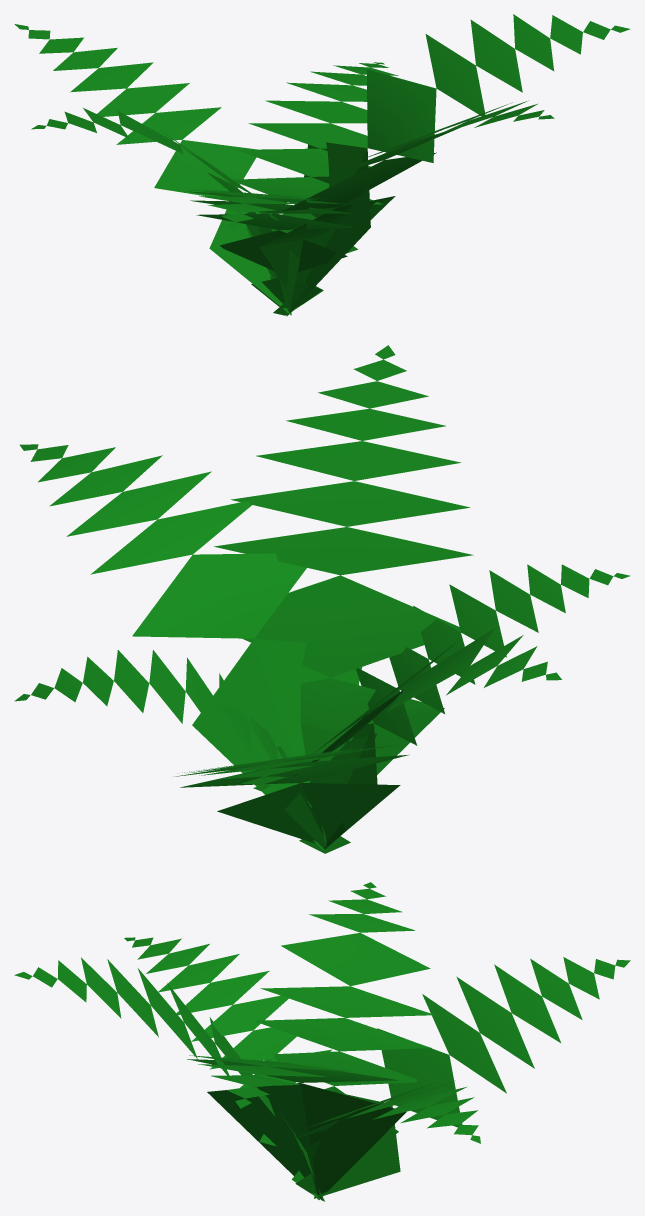
File: plant1.fbx
3 renders of one model, top to bottom at view 1: azimuth 30°, elevation 25°; view 2: azimuth 150°, elevation 25°; view 3: azimuth 270°, elevation 25°, orthographic. The views are drawn at different scales.
Visible parts, largest first — view 1: Fern; view 2: Fern; view 3: Fern.
Part boxes in pixels (bbox=[...]): Fern: bbox=[14, 14, 630, 316]; Fern: bbox=[14, 345, 630, 853]; Fern: bbox=[14, 882, 630, 1201].
Bounding box in the file's own units: 1.98 × 1.03 × 2.09.
